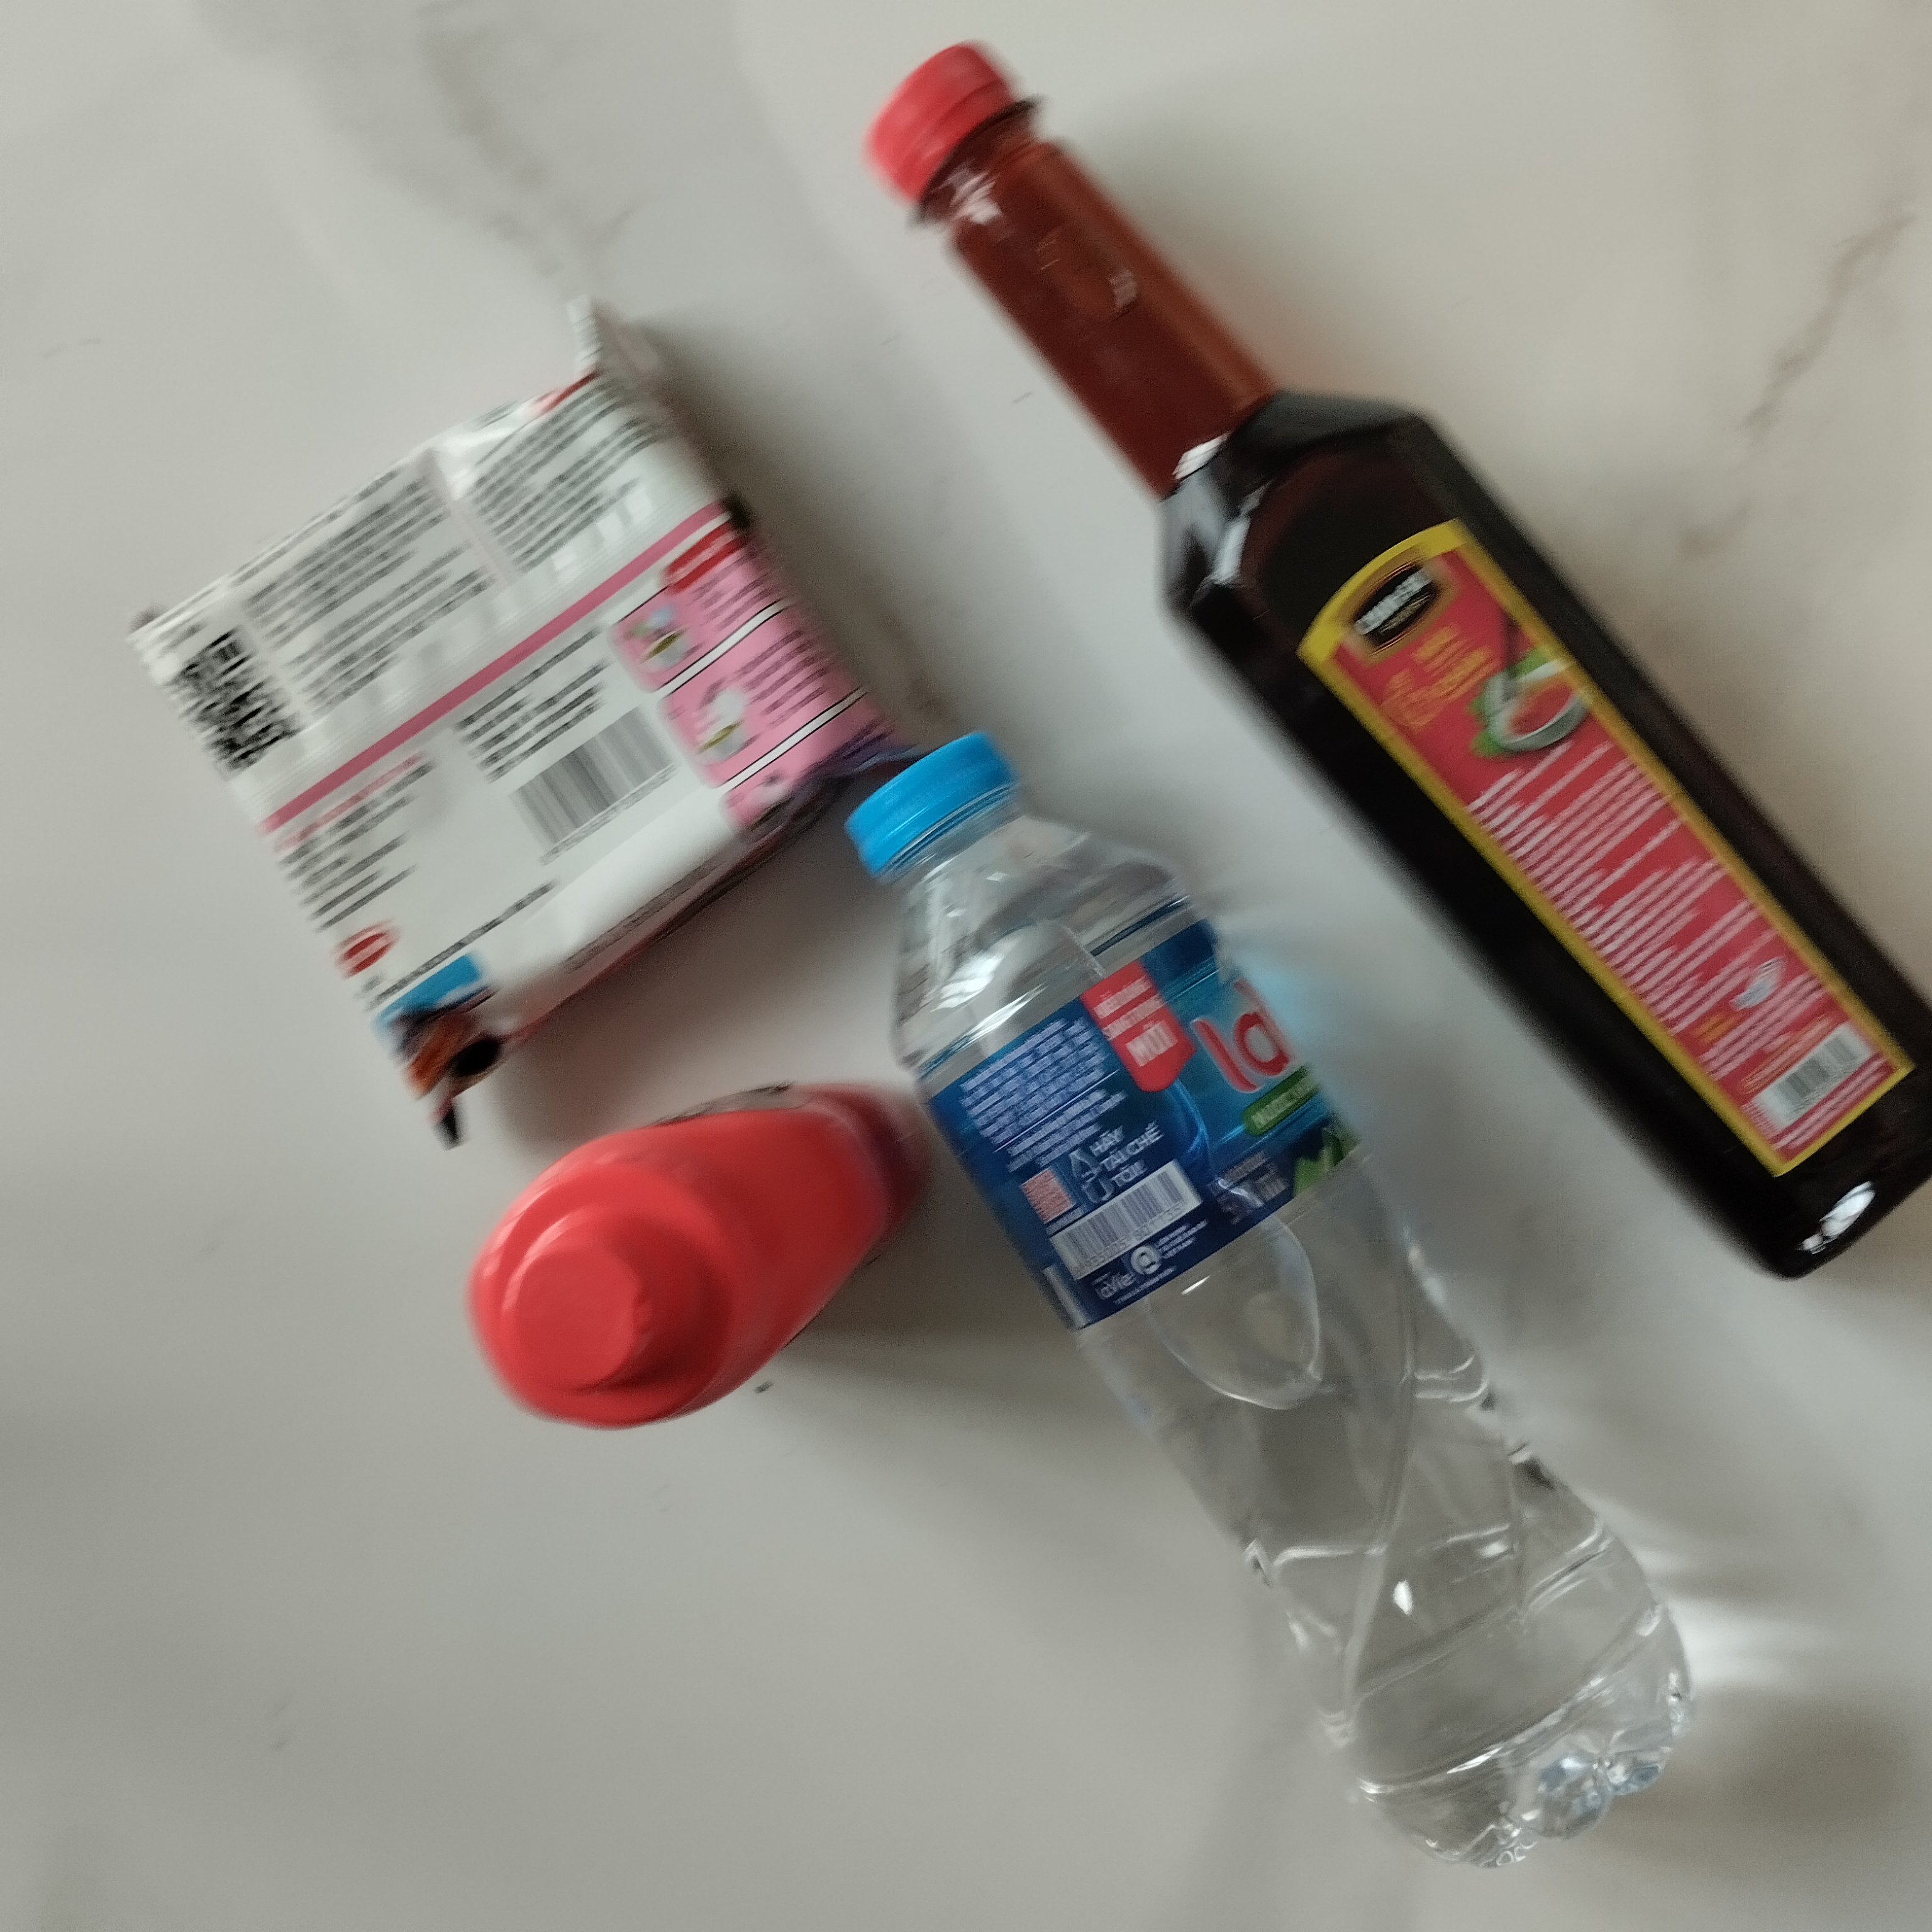Chinsu: (469, 1077, 924, 1428)
Haohao: (119, 297, 924, 1157)
Lavie: (837, 727, 1697, 1865)
Namngu: (855, 35, 1932, 1292)
